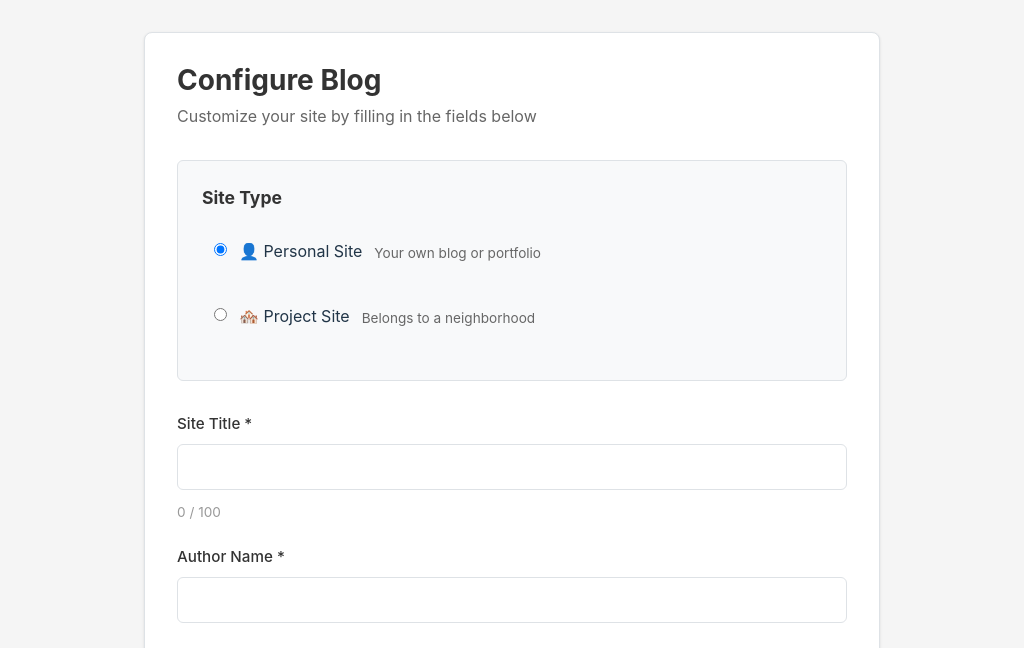
it: SiteConfigForm › shows neighborhood selector when project type selected
The width and height of the screenshot is (1024, 648).
Click the radio button labelled "🏘️ Project Site Belongs to a neighborhood" at [220, 314], box [214,308,227,321]
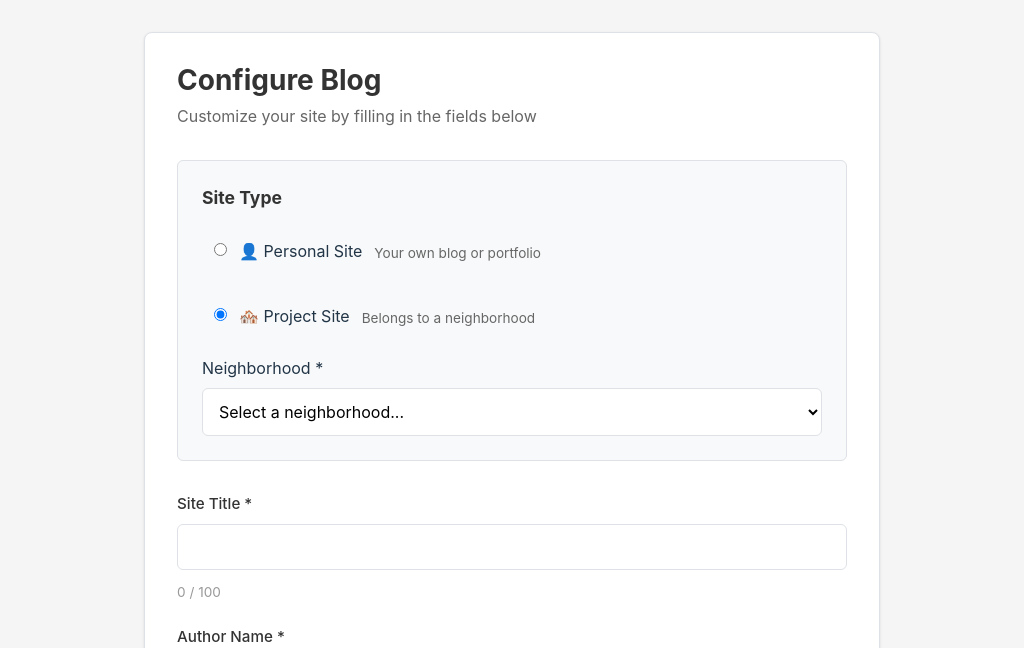
Expected: the dropdown labelled "Neighborhood *" is shown, [202,388,822,436]
